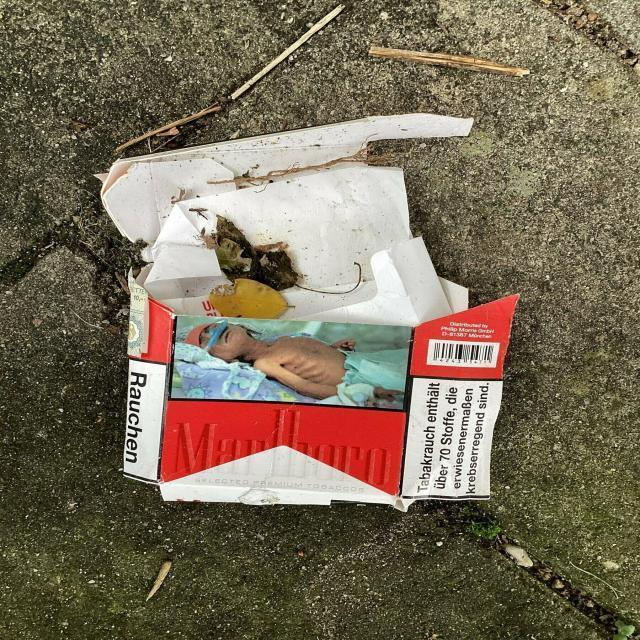Paper: (86, 104, 528, 518)
